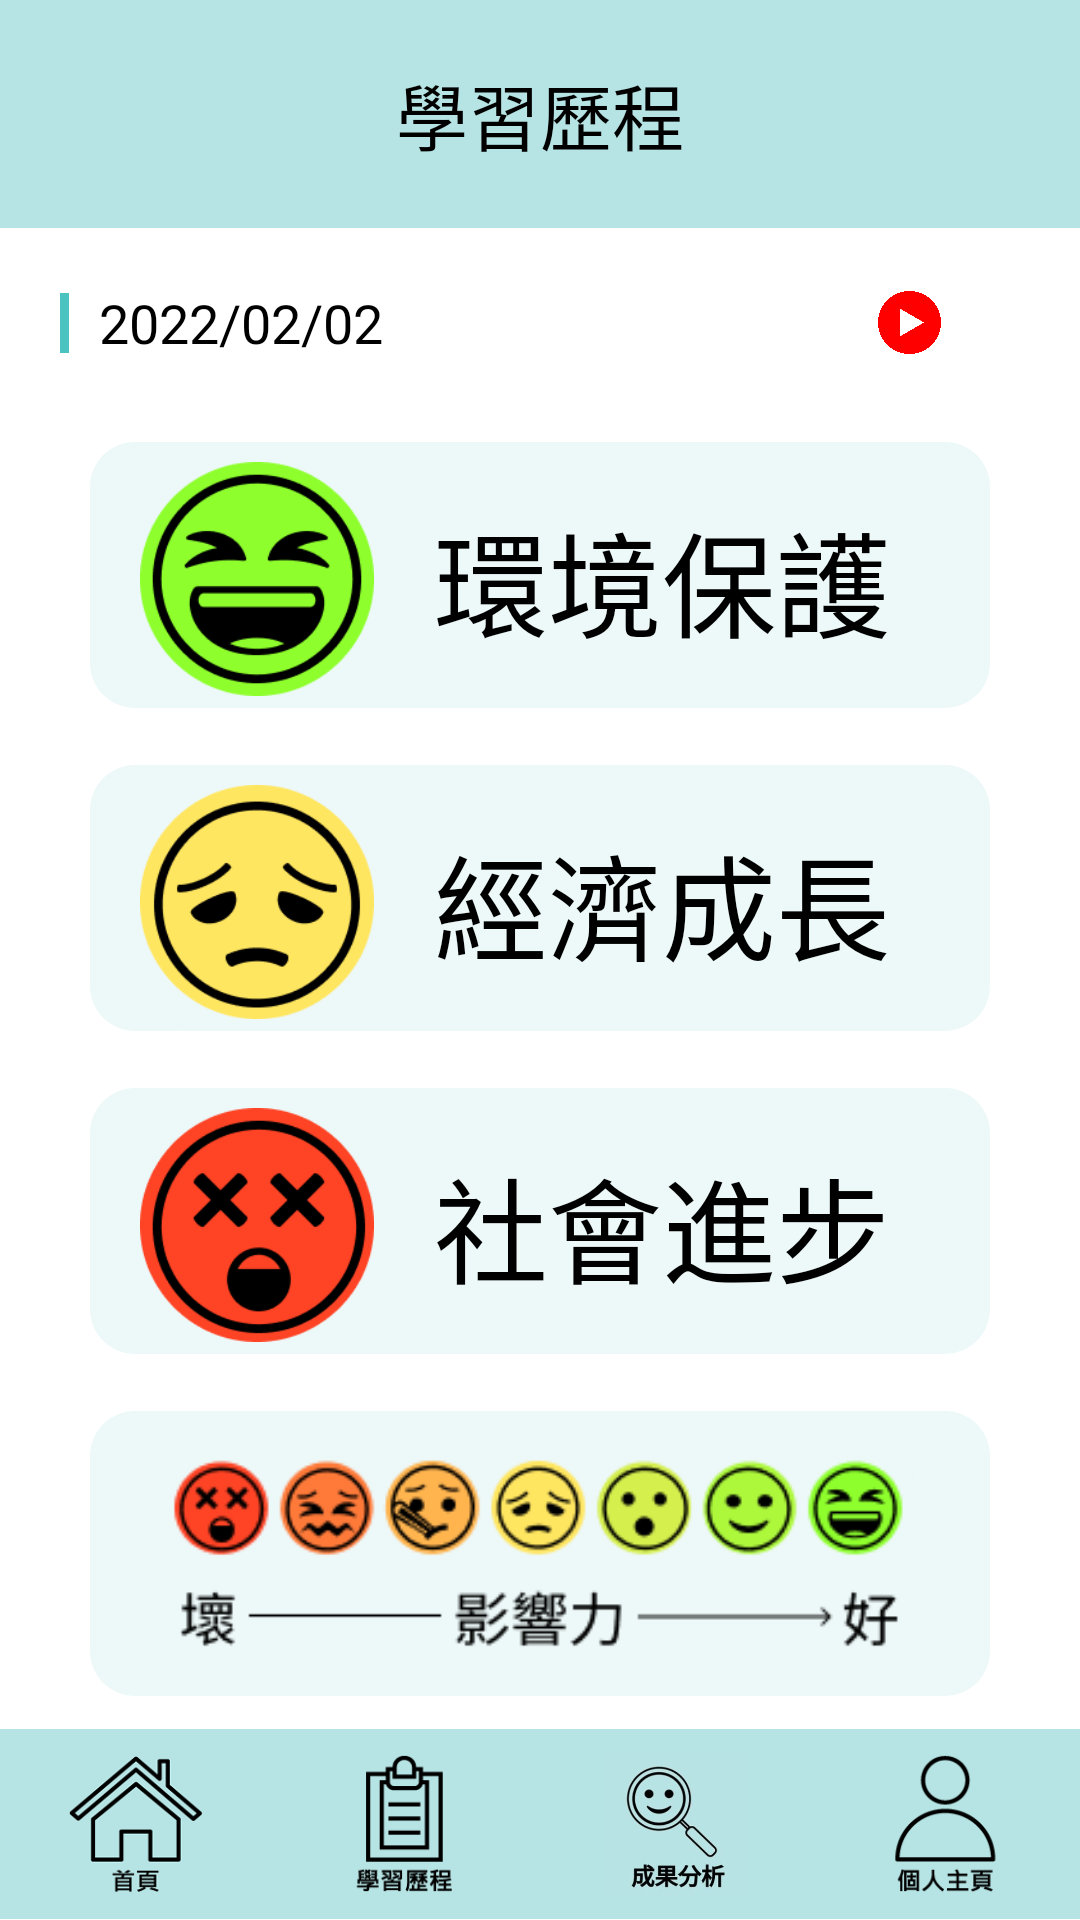

Screen size 1080px x 1920px. Icon name, then its box in pixels as (x1,y1,x2,y2):
face: (140,462,374,696), (140,785,374,1019), (140,1108,374,1342)
play: (878,291,941,354)
